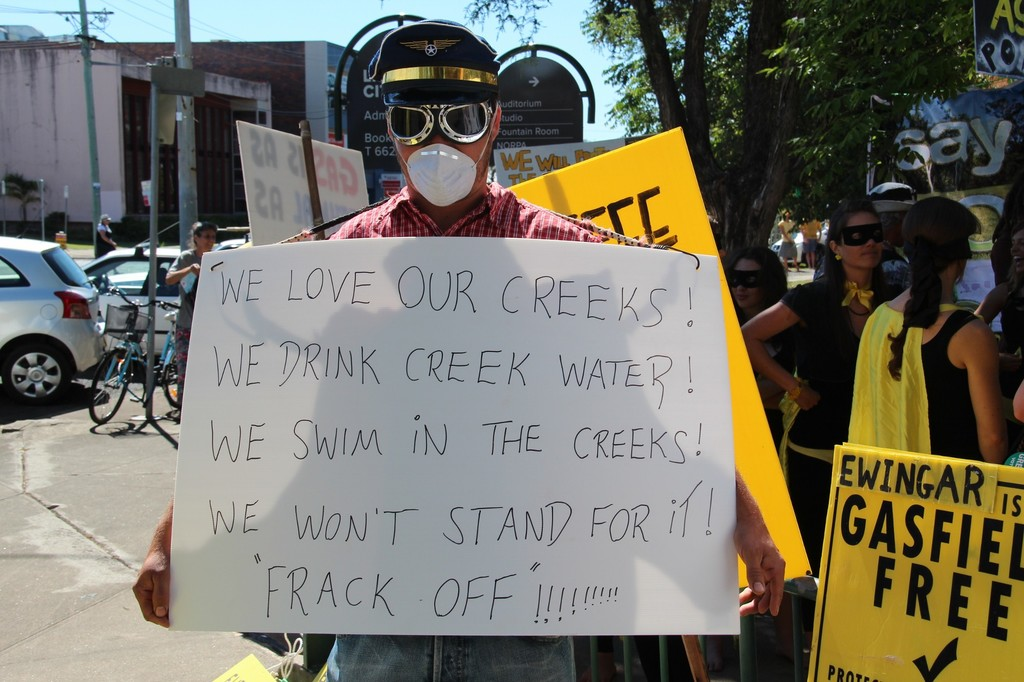Car: (0, 233, 109, 412), (87, 220, 188, 368)
